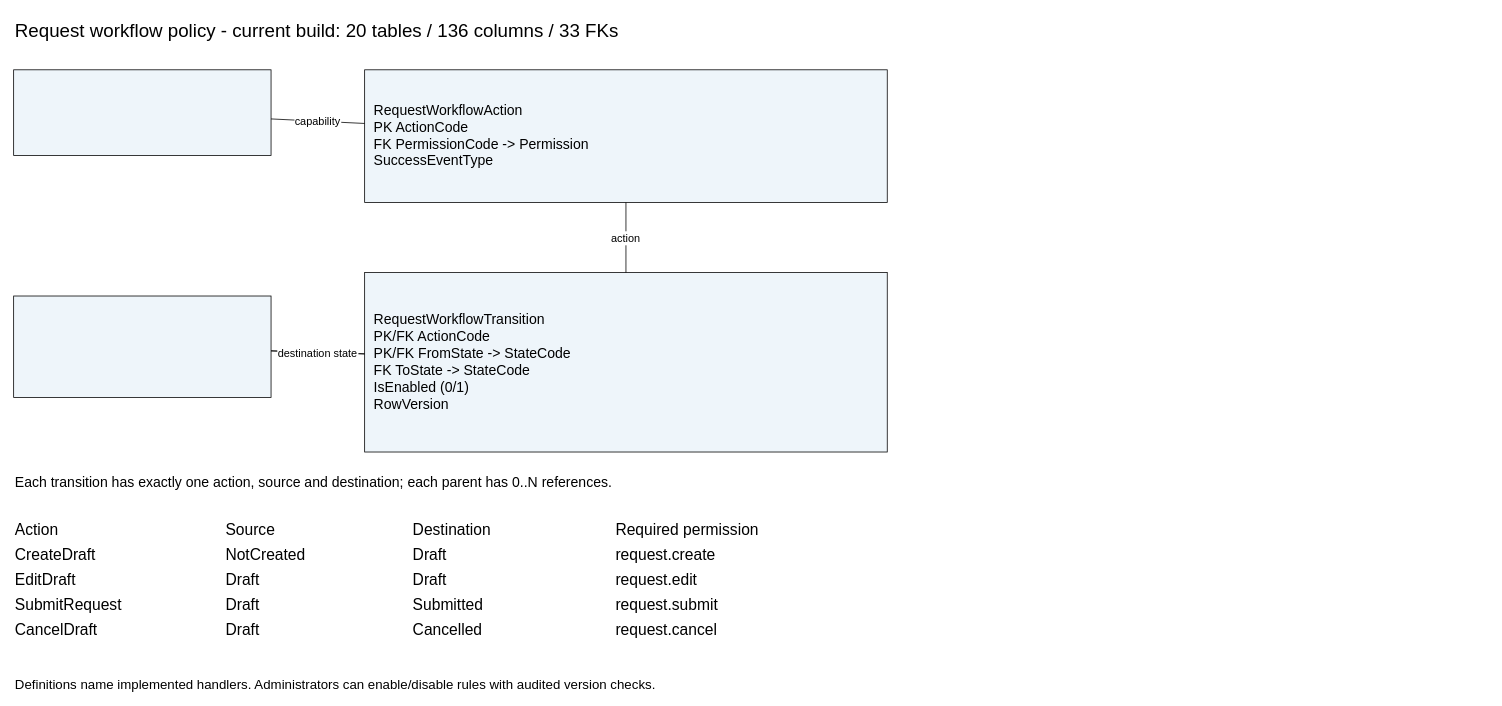
The diagram is 1502 pixels wide and 706 high, and some of its shapes have lost their labels. Here are the shapes that lost their labels. From the top down, the centre of each, then its label:
At pixel 142 112: "Permission PK PermissionCode Existing capability catalogue".
At pixel 142 346: "RequestWorkflowState PK StateCode Description".
